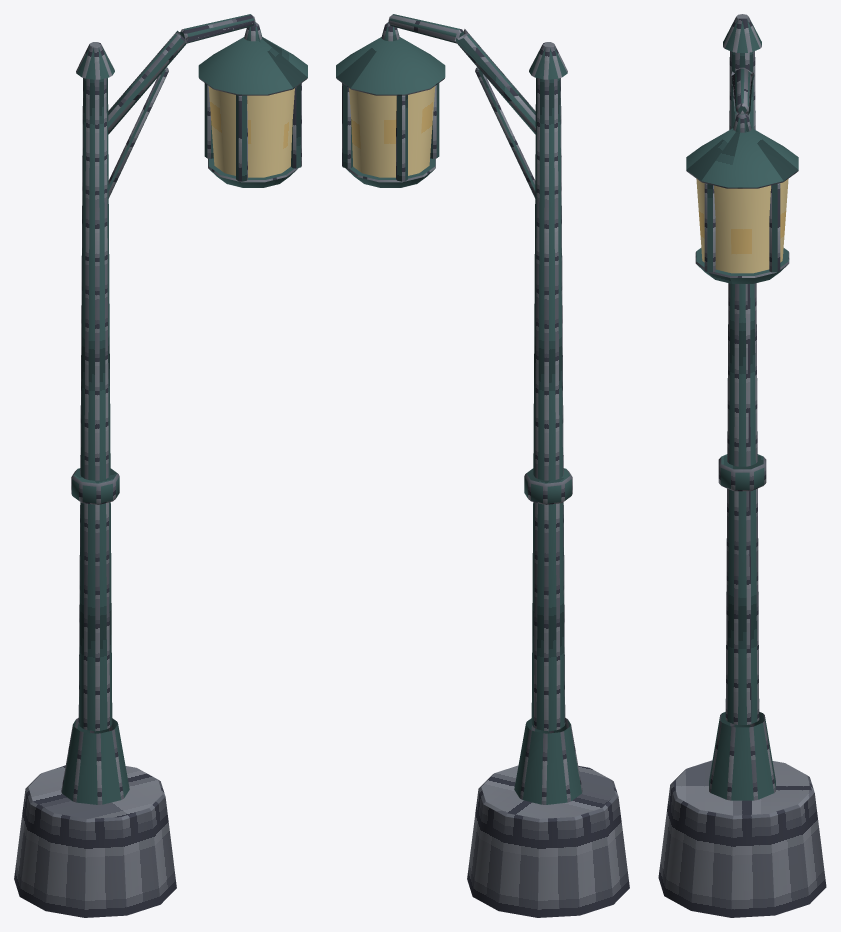
The model's file is street_lamp_1.glb.
3 views of the same model, side by side, from view 1: azimuth 30°, elevation 25°; view 2: azimuth 150°, elevation 25°; view 3: azimuth 270°, elevation 25° (orthographic). The views are drawn at different scales.
Parts seen in each view (by area): view 1: street_lamp_2; view 2: street_lamp_2; view 3: street_lamp_2.
Part boxes in pixels (x1,y1,x2,y2): street_lamp_2: (14, 14, 307, 917); street_lamp_2: (336, 14, 629, 917); street_lamp_2: (658, 14, 826, 917).
Size of the model in its own units: 1.09 by 3.16 by 0.5552.
Materials: 3 (3 with a texture image).
